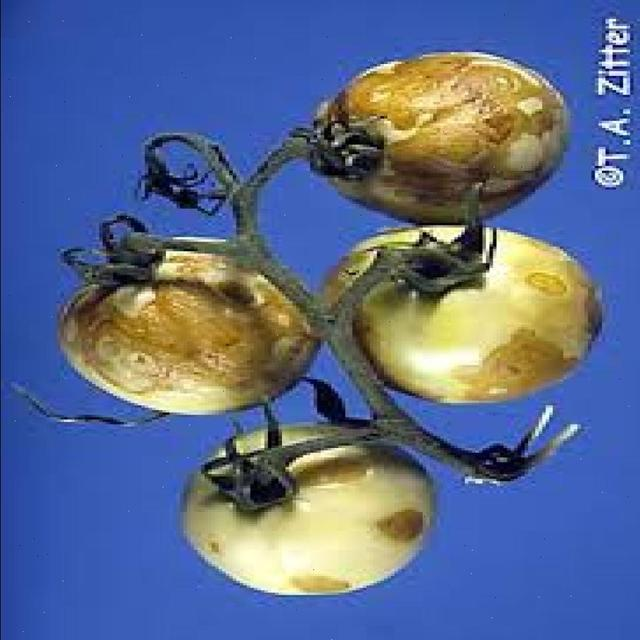Spotted wilt Virus Fruit: (123, 91, 311, 340)
